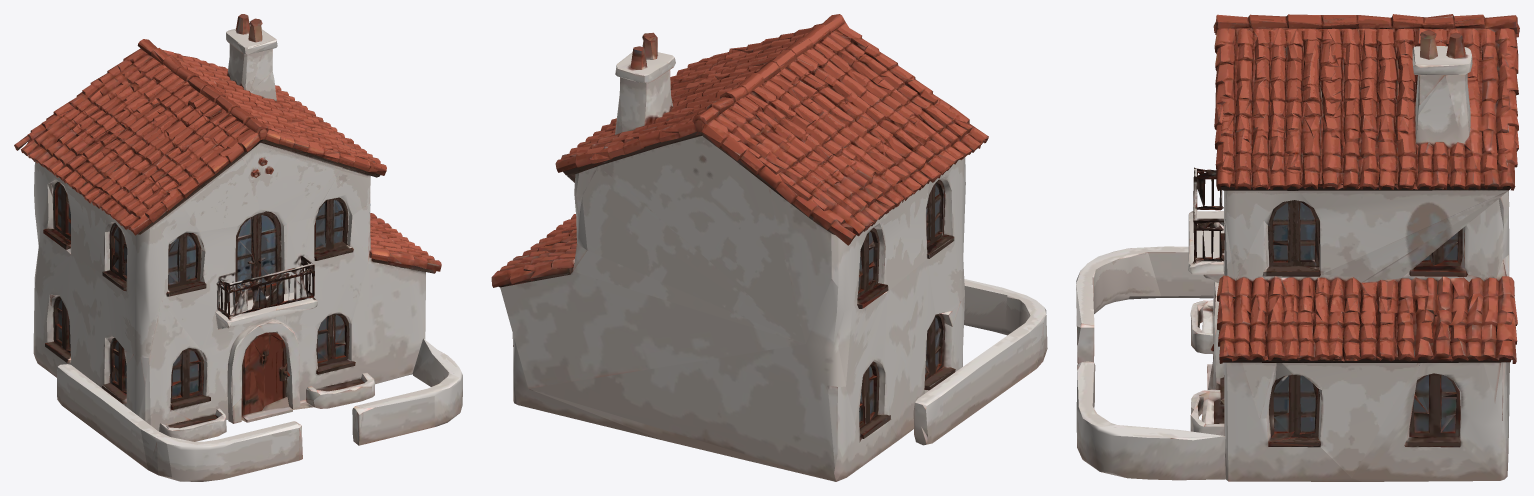
File: jesse-house.glb
3 renders of one model, left to right at view 1: azimuth 30°, elevation 25°; view 2: azimuth 150°, elevation 25°; view 3: azimuth 270°, elevation 25°, orthographic. The views are drawn at different scales.
Parts seen in each view (by area): view 1: placed; view 2: placed; view 3: placed.
Boxes of the visible parts, <box> form: placed: <box>14,14,462,481</box>; placed: <box>491,14,1047,481</box>; placed: <box>1076,14,1519,481</box>.
Size of the model in its own units: 14 by 12.97 by 13.23.
1 material, 1 textured.
